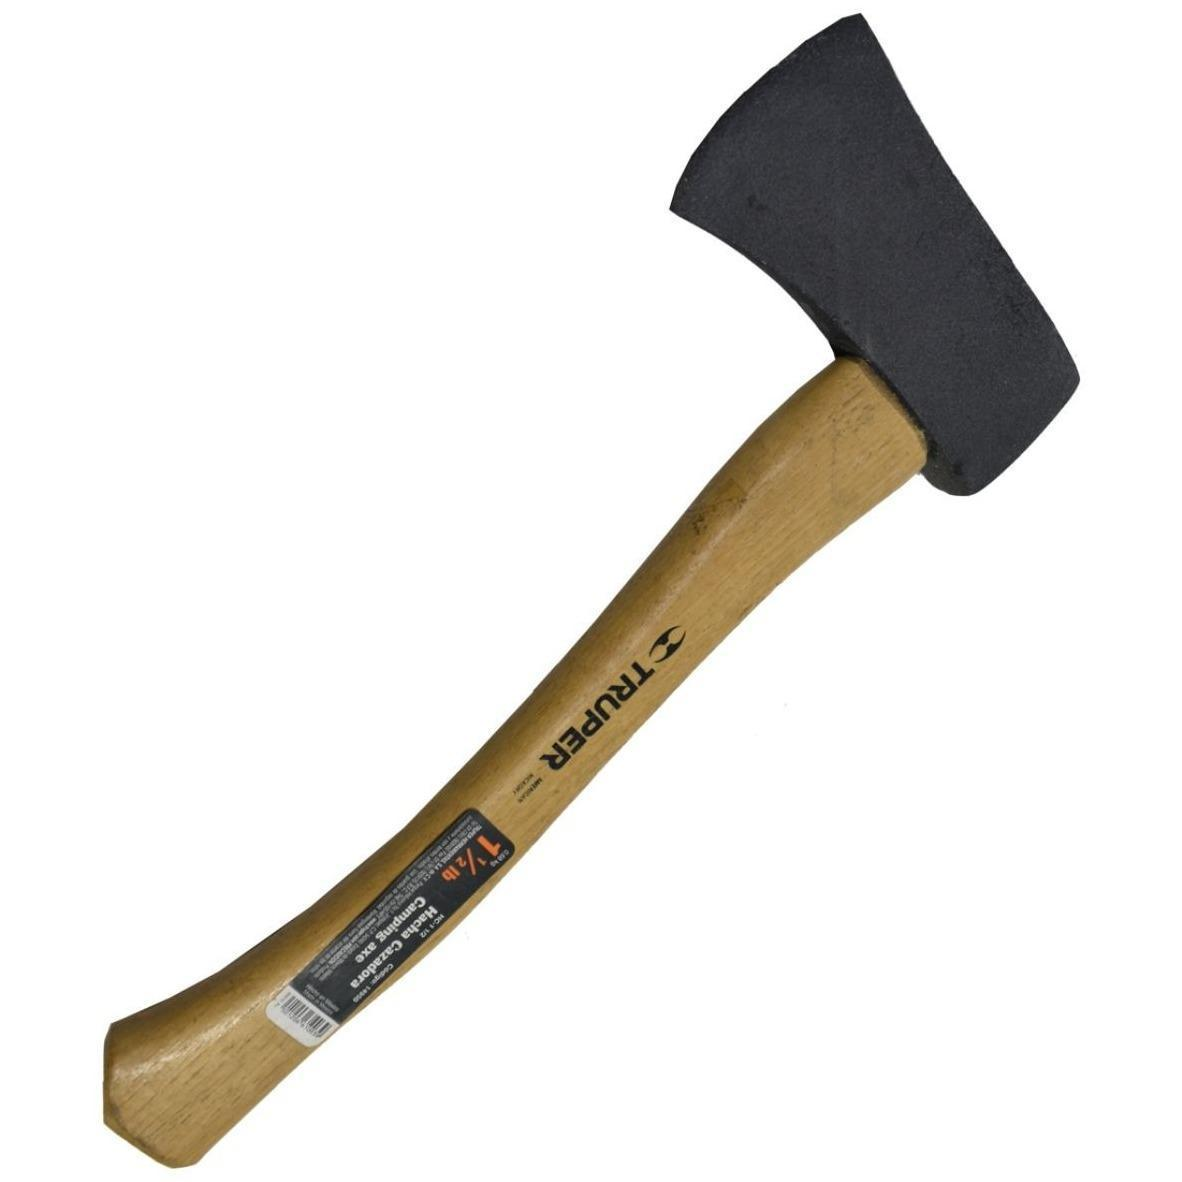machado: (104, 15, 1078, 1167)
